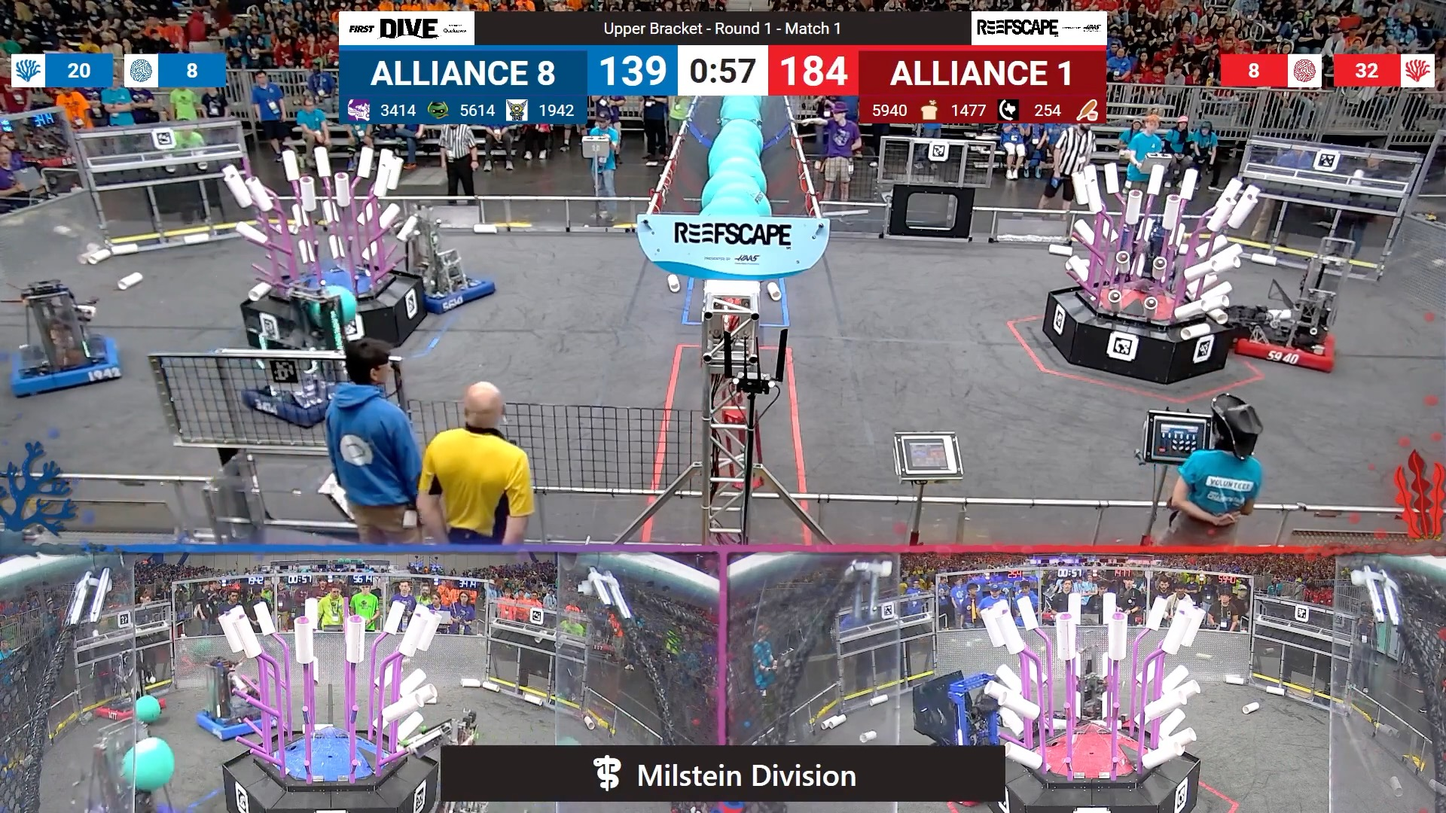bumpers: (0, 332, 122, 401), (1223, 320, 1349, 380), (234, 380, 360, 435), (400, 268, 507, 313), (191, 701, 282, 743)
